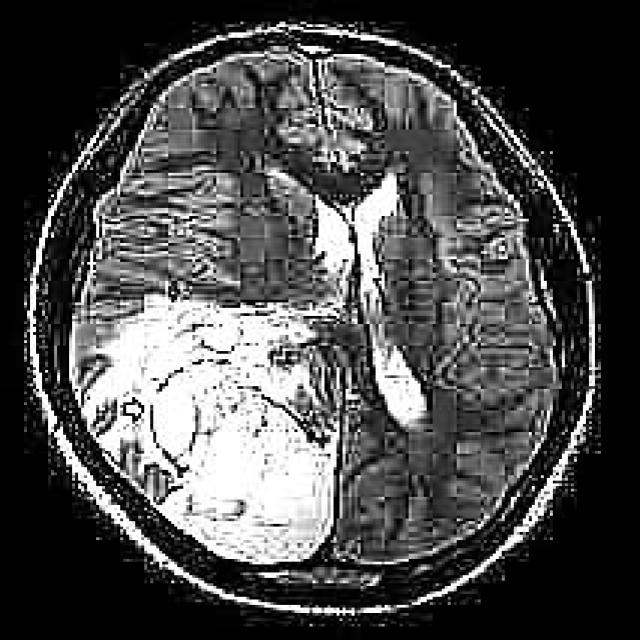Tumor-Cell: (67, 297, 334, 518)
